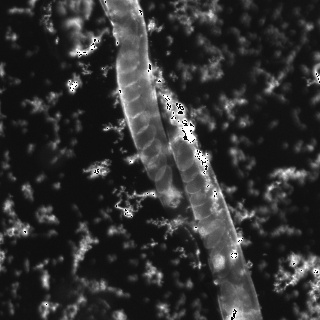embryo: (144, 152, 167, 185), (212, 240, 231, 276), (221, 280, 240, 314), (133, 123, 156, 151), (204, 218, 225, 248), (140, 139, 163, 165), (154, 164, 172, 197), (128, 113, 149, 139), (176, 142, 194, 171), (116, 49, 136, 74), (190, 185, 212, 207), (124, 95, 145, 118), (198, 213, 219, 236), (120, 35, 139, 60), (181, 157, 200, 182), (193, 198, 215, 219), (186, 172, 206, 195), (122, 81, 141, 101), (117, 70, 138, 87)
